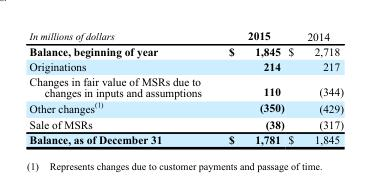table: (28, 29, 343, 145)
table column: (28, 29, 214, 145), (214, 29, 285, 145), (285, 29, 343, 145)
table column header: (28, 29, 343, 43)
table row: (28, 73, 343, 99), (28, 99, 343, 115), (28, 115, 343, 131), (28, 43, 343, 58), (28, 58, 343, 73), (28, 29, 343, 43), (28, 131, 343, 145)
